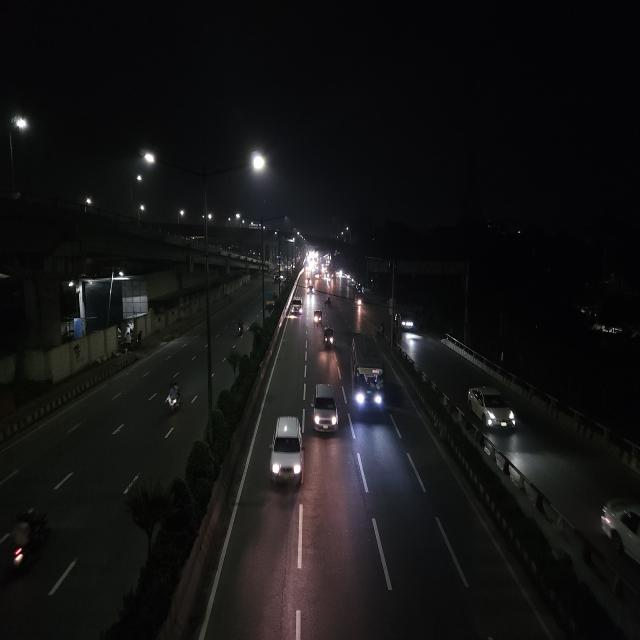bus: (348, 329, 387, 422)
car: (596, 494, 640, 572), (465, 384, 521, 440), (267, 412, 305, 494), (310, 380, 340, 441), (395, 312, 416, 335), (290, 296, 304, 317), (307, 285, 315, 296)
cng: (323, 324, 335, 349), (312, 307, 324, 327)
motorcycle: (162, 371, 185, 420), (234, 317, 246, 340)
rickshaw: (323, 296, 333, 309)
truck: (266, 294, 276, 306)
